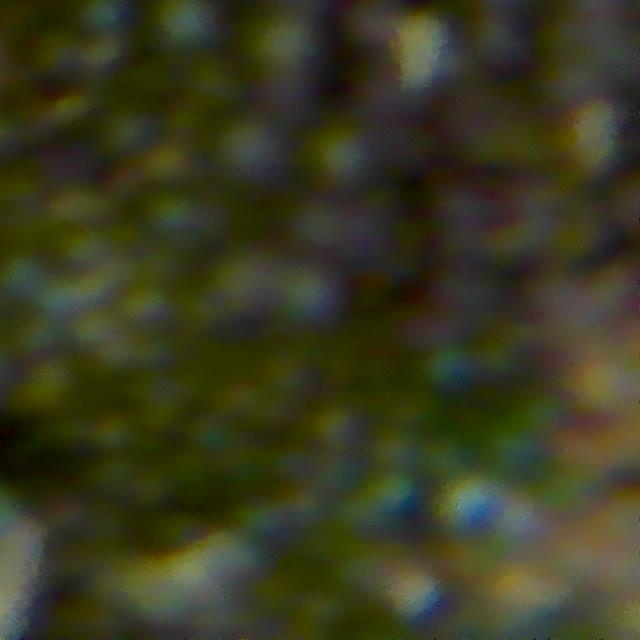SeaGrape: (245, 11, 325, 97), (213, 114, 289, 191), (208, 248, 282, 320), (290, 194, 363, 260), (145, 188, 222, 250), (308, 124, 377, 192), (276, 262, 342, 328), (437, 474, 504, 534), (152, 0, 220, 54), (186, 56, 242, 111), (98, 107, 156, 158), (76, 0, 130, 40)
